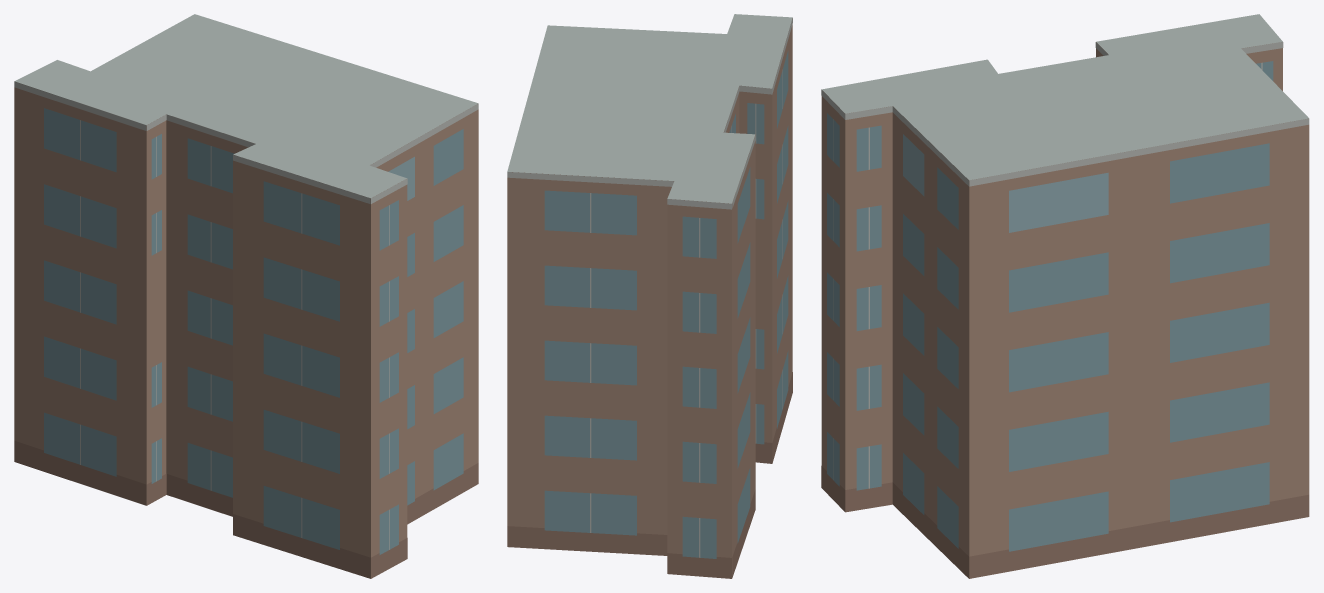
File: survey-upis-32848342.glb
3 views of the same model, side by side, from view 1: azimuth 30°, elevation 25°; view 2: azimuth 150°, elevation 25°; view 3: azimuth 270°, elevation 25° (orthographic). The views are drawn at different scales.
Parts seen in each view (by area): view 1: survey-upis-32848342.tmp; view 2: survey-upis-32848342.tmp; view 3: survey-upis-32848342.tmp.
Boxes of the visible parts, x1,y1,x2,y2 form: survey-upis-32848342.tmp: [14, 14, 478, 578]; survey-upis-32848342.tmp: [507, 14, 792, 578]; survey-upis-32848342.tmp: [821, 14, 1309, 578].
Size of the model in its own units: 13.89 by 15.5 by 17.2.
